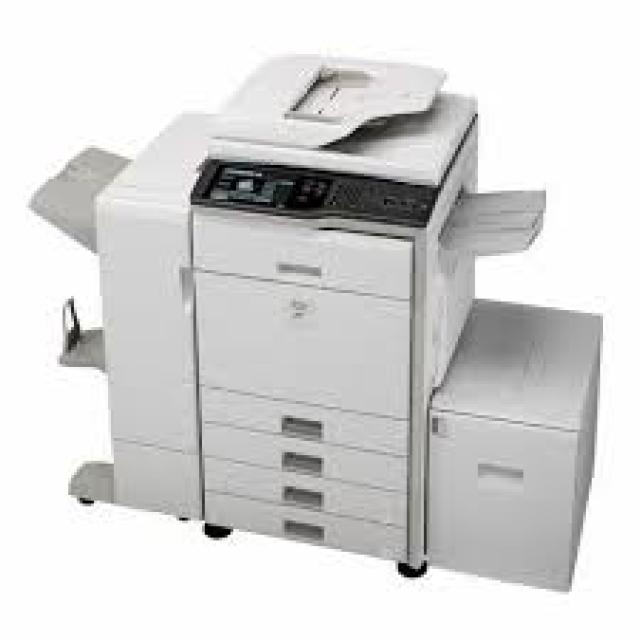printer: (26, 48, 603, 592)
